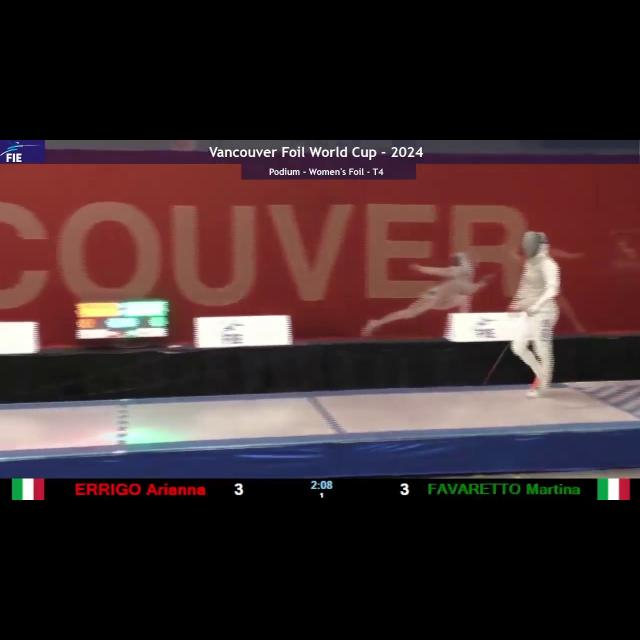blade: (480, 308, 536, 386)
